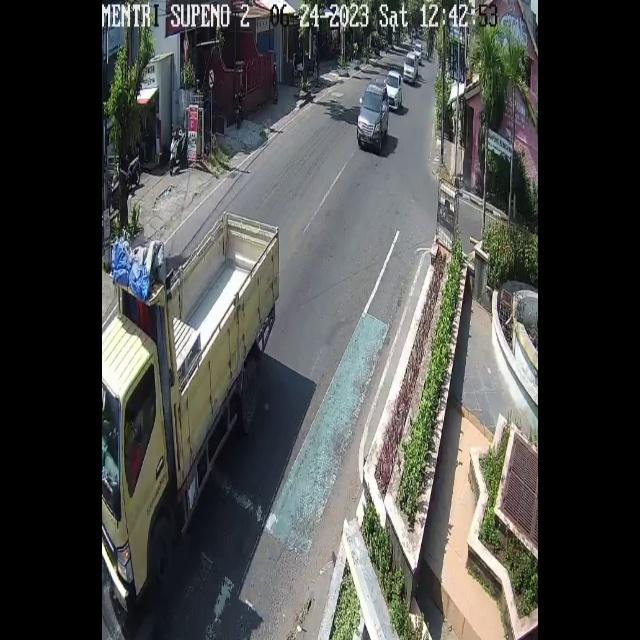motorcycle: (355, 80, 390, 157), (385, 69, 403, 111), (404, 52, 418, 84)
truck: (102, 210, 280, 617)
